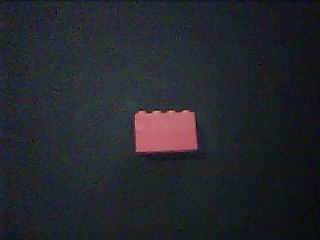lego: (134, 108, 198, 154)
